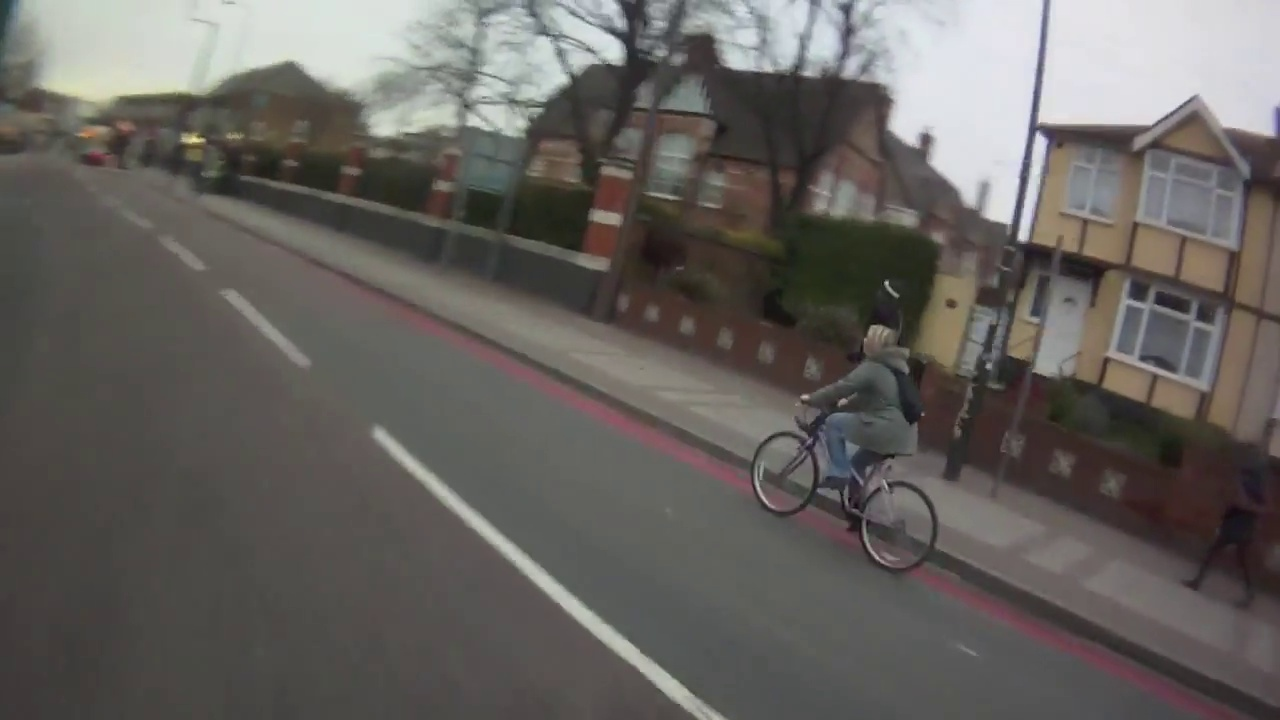cyclist_side: (736, 303, 953, 582)
